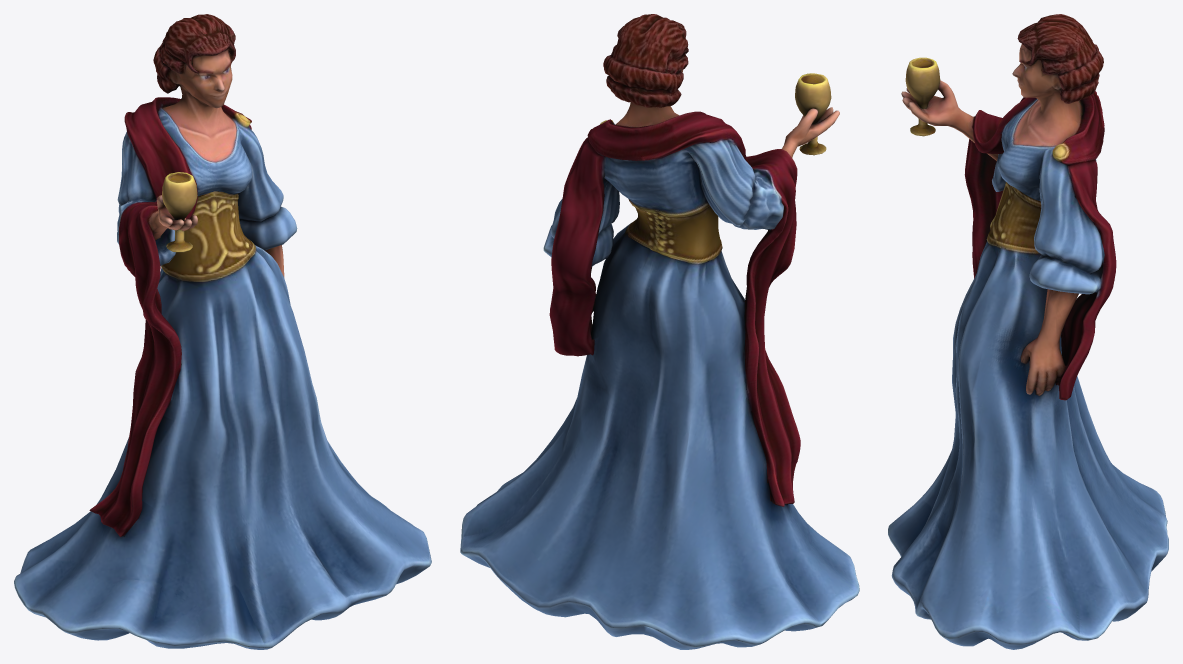
Rendered from Noble woman.glb.
3 views of the same model, side by side, from view 1: azimuth 30°, elevation 25°; view 2: azimuth 150°, elevation 25°; view 3: azimuth 270°, elevation 25° (orthographic). The views are drawn at different scales.
Visible parts, largest first — view 1: model_low.001, cup_low.001; view 2: model_low.001, cup_low.001; view 3: model_low.001, cup_low.001.
Part boxes in pixels (x1,y1,x2,y2): model_low.001: (14, 14, 431, 649); cup_low.001: (162, 172, 197, 252); model_low.001: (460, 14, 859, 649); cup_low.001: (795, 73, 831, 155); model_low.001: (888, 14, 1168, 649); cup_low.001: (905, 57, 940, 136).
Size of the model in its own units: 4.43 by 6.77 by 3.02.
1 material, 1 textured.
